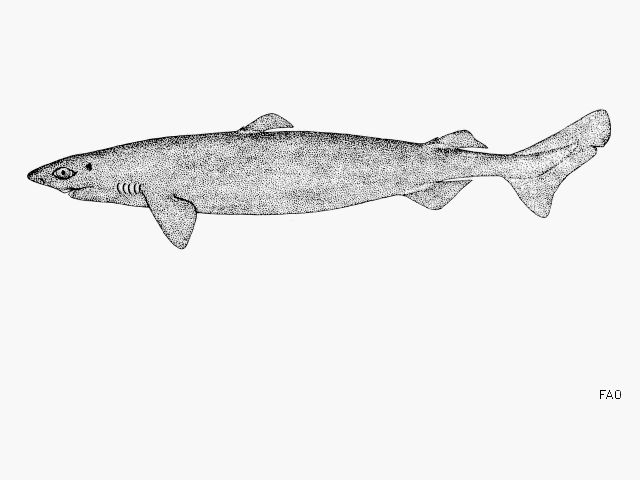fish: (26, 114, 612, 247)
